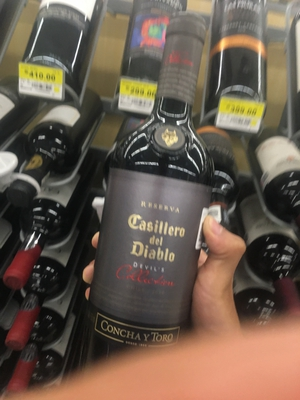casillero del diablo devils collection rojo: (83, 35, 218, 400)
